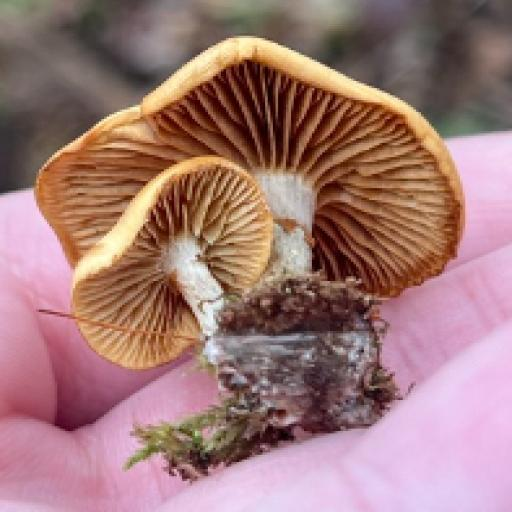mushroom: (32, 32, 466, 429)
